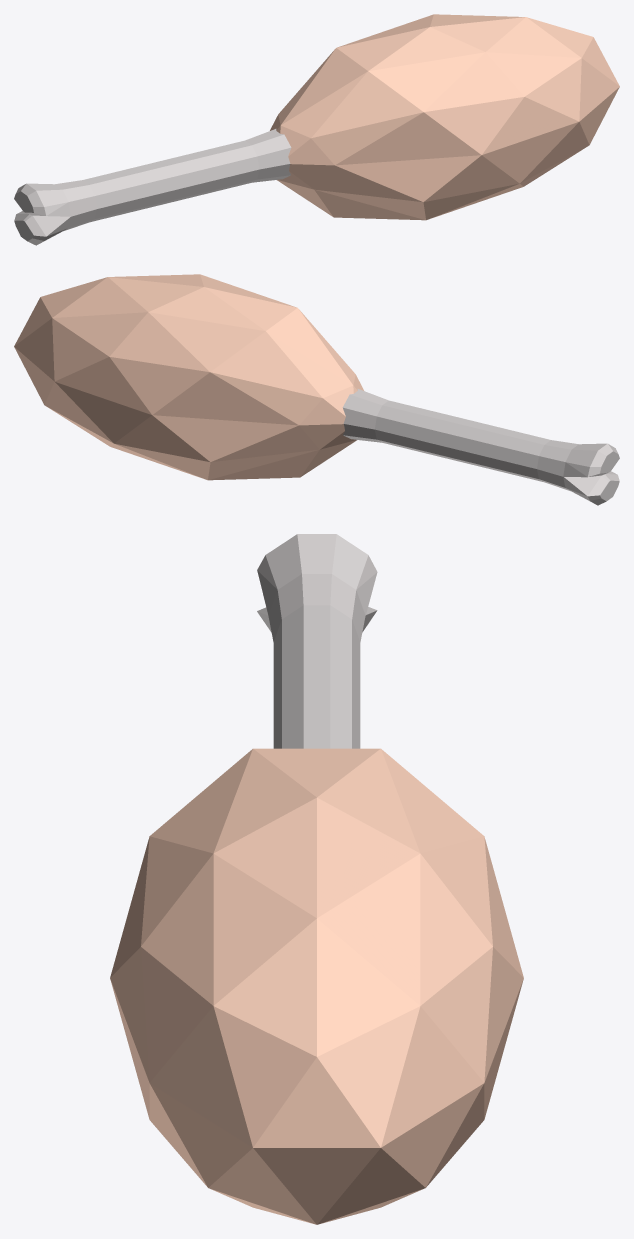
Rendered from DrumstickRaw.fbx.
3 renders of one model, top to bottom at view 1: azimuth 30°, elevation 25°; view 2: azimuth 150°, elevation 25°; view 3: azimuth 270°, elevation 25°, orthographic. The views are drawn at different scales.
Visible parts, largest first — view 1: Icosphere, Cylinder.002; view 2: Icosphere, Cylinder.002; view 3: Icosphere, Cylinder.002.
Part boxes in pixels (x1,y1,x2,y2): Icosphere: (270, 14, 619, 220); Cylinder.002: (14, 129, 291, 245); Icosphere: (14, 274, 363, 480); Cylinder.002: (342, 389, 619, 505); Icosphere: (110, 748, 523, 1224); Cylinder.002: (257, 534, 377, 748).
Bounding box in the file's own units: 134 × 40.01 × 41.57.
